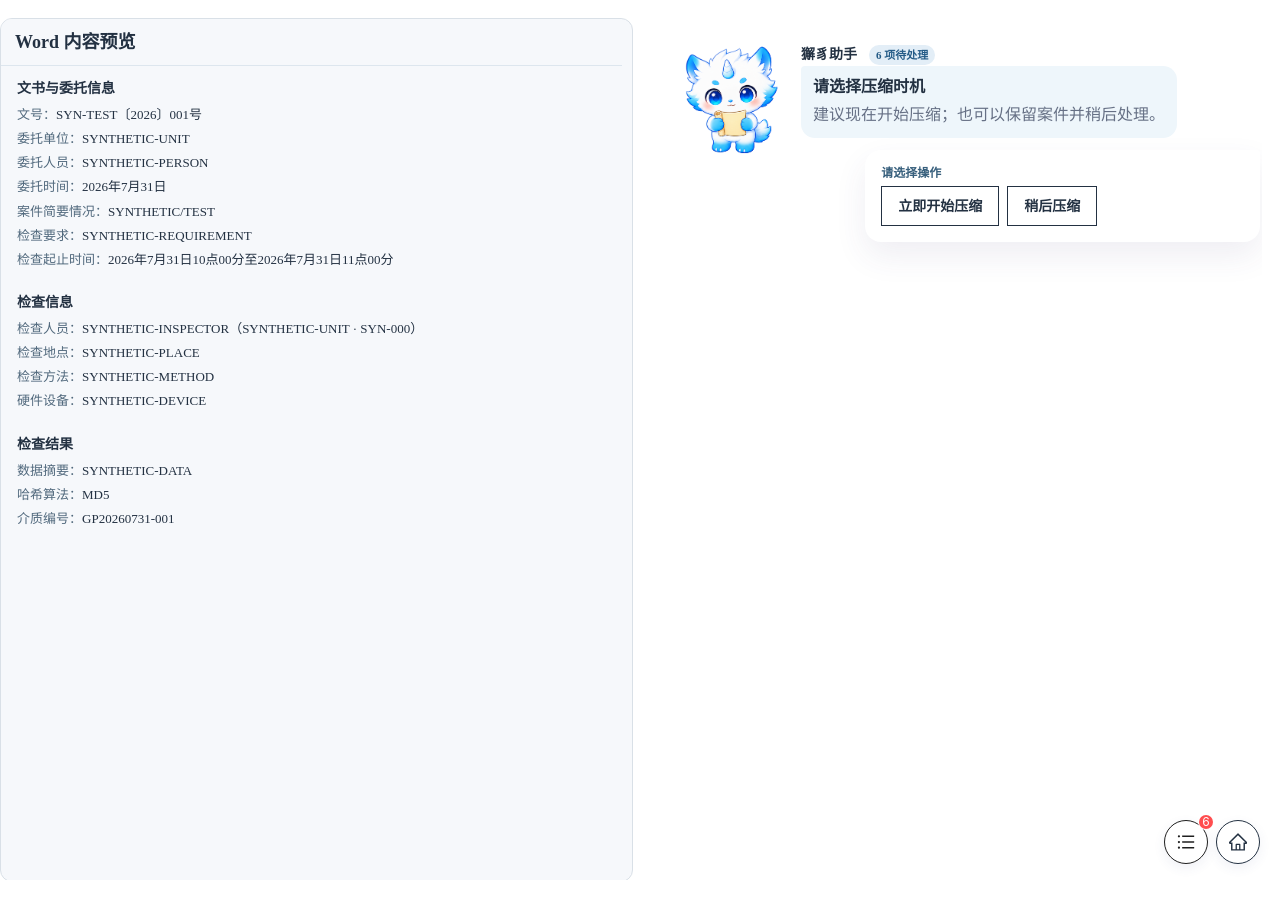
Test: CaseRecordGeneratePage archive decision coordination › restores confirmed evidence completeness under previously handled after reopening the case
The image size is (1280, 900).
Click the button named "查看已填内容与待办" at point(1186, 842), box left=1164, top=820, right=1208, bottom=864
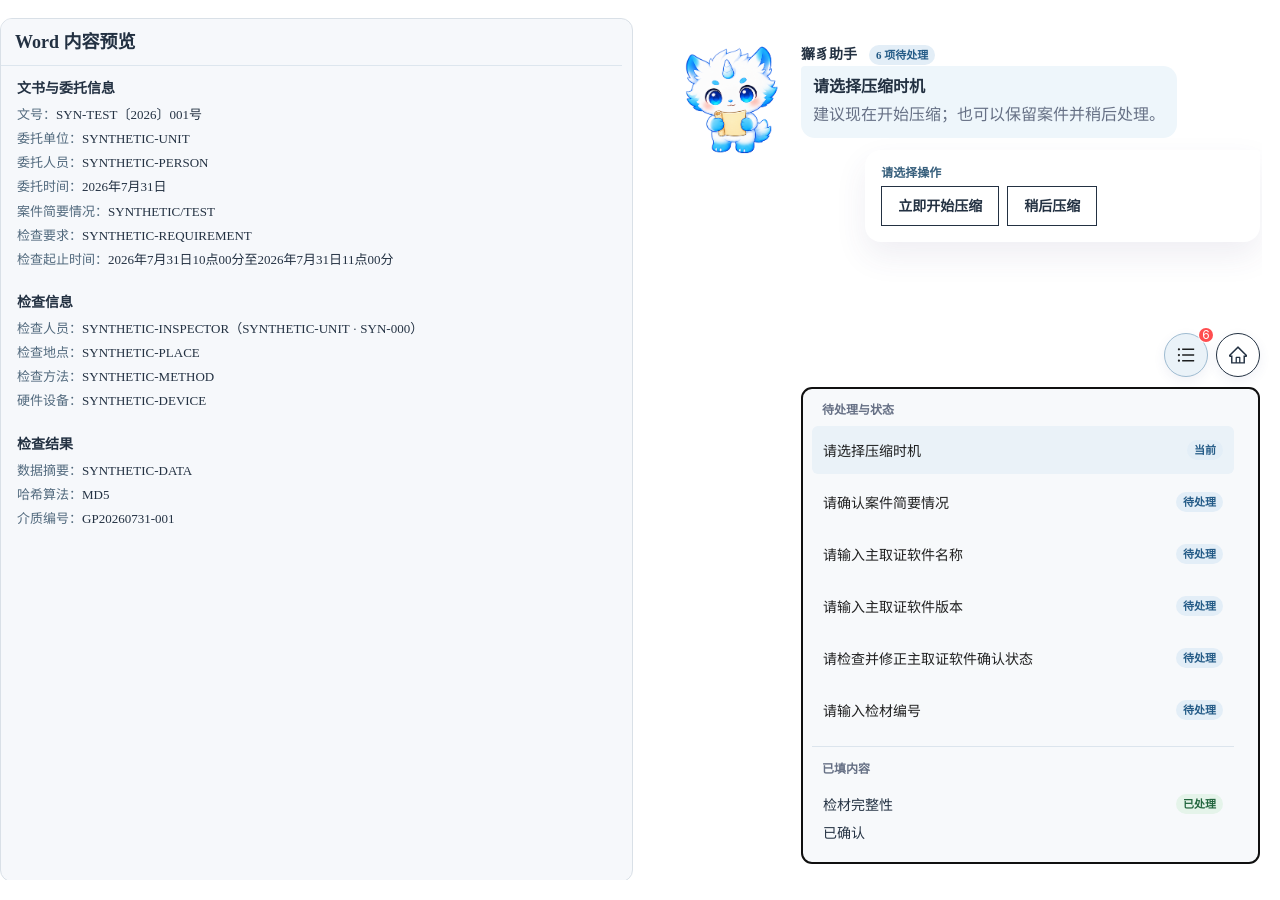
Expected: the button with aria-label "修改检材完整性" shows "已确认"
Click the button with aria-label "修改检材完整性" at point(858, 805), box left=812, top=785, right=1234, bottom=853
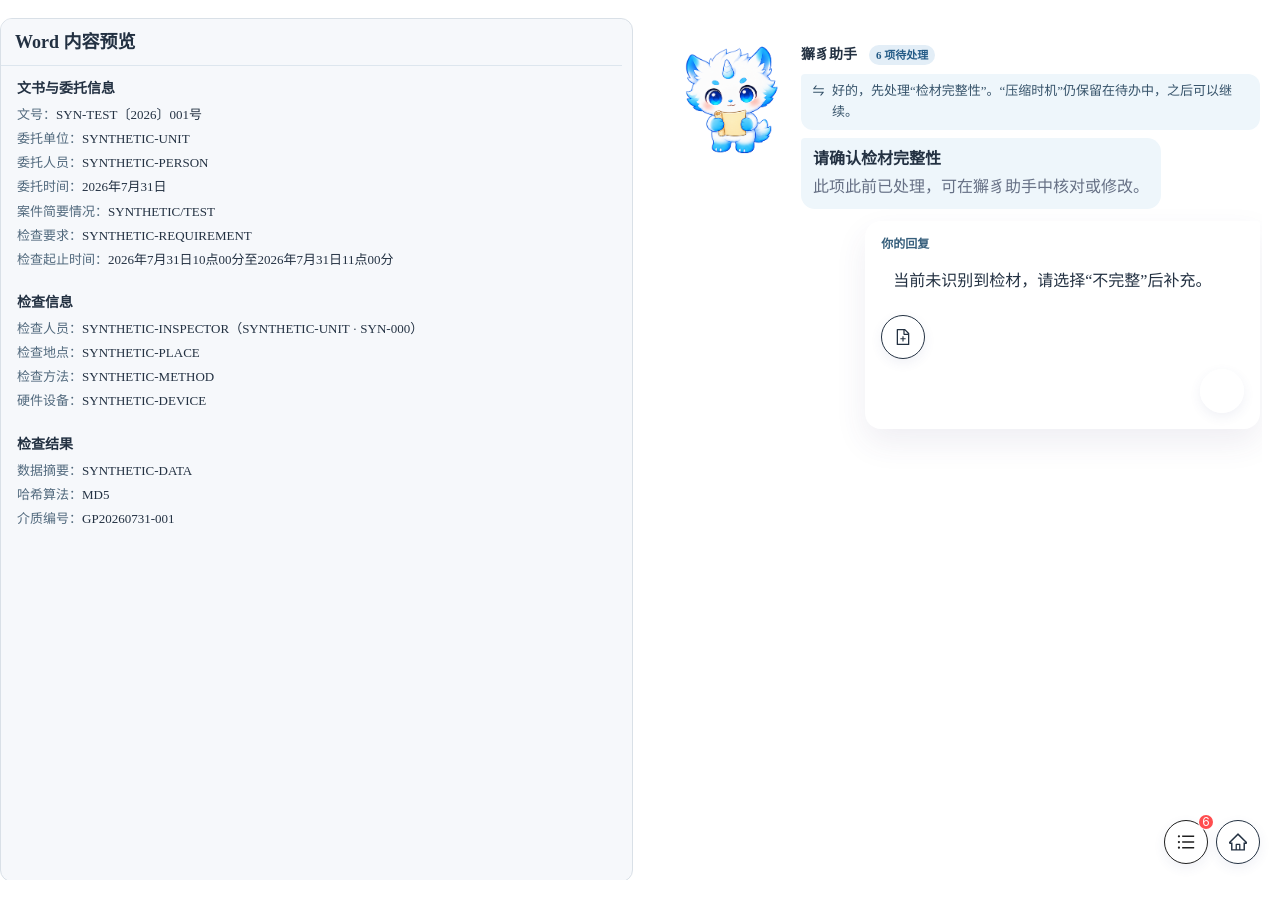
Expected: the message named "獬豸助手提示" shows "请确认检材完整性", left=813, top=150, right=941, bottom=167
